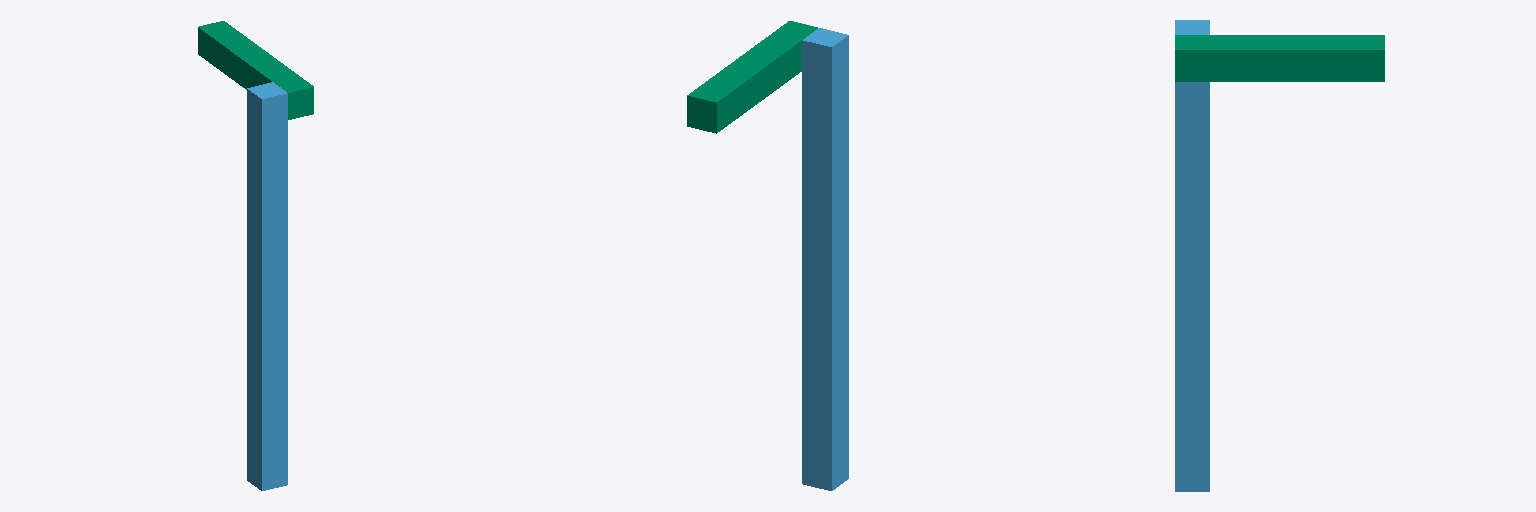
robot.urdf — single_pendulum:
<!-- <?xml version="1.0" ?> -->
<!-- Example modified from rrbot example -->
<robot name="single_pendulum">
  <!-- Use a dummy "base_link" as in REP-120 models -->
  <link name="base_link"/>
  <joint name="fake_base_fixed_joint" type="fixed">
    <parent link="base_link"/>
    <child link="base"/>
  </joint>
  
  <!-- Base Link -->
  <link name="base">
    <collision>
      <origin rpy="0 0 0" xyz="0 0 1.0"/>
      <geometry>
        <box size="0.15 0.15 2.15"/>
      </geometry>
    </collision>
    <visual>
      <origin rpy="0 0 0" xyz="0 0 1.0"/>
      <geometry>
        <box size="0.15 0.15 2.15"/>
      </geometry>
      <material name="orange"/>
    </visual>
    <inertial>
      <mass value="100"/>
      <origin rpy="0 0 0" xyz="0 0 0.0"/>
      <inertia ixx="1.0" ixy="0.0" ixz="0.0" iyy="1.0" iyz="0.0" izz="1.0"/>
    </inertial>
  </link>

  <joint name="upper_joint" type="revolute">
    <parent link="base_link" />
    <child link="upper_link"/>
    <origin rpy="-1.5708 0 0" xyz="0.15 0 2"/>
    <axis xyz="1 0 0"/>
    <limit effort="100" velocity="100.0" lower="-5" upper="5" />
  </joint>


  <!-- Upper link -->
  <link name="upper_link">
    <collision>
      <origin rpy="0 0 0" xyz="0 0 0.40"/>
      <geometry>
        <box size="0.15 0.15 0.90"/>
      </geometry>
    </collision>
    <visual>
      <origin rpy="0 0 0" xyz="0 0 0.375"/>
      <geometry>
        <box size="0.15 0.15 0.90"/>
      </geometry>
    </visual>    
    <inertial>
      <origin rpy="0 0 0" xyz="0 0 0.40"/>
      <mass value="1"/>
      <inertia ixx="1.0" ixy="0.0" ixz="0.0" iyy="1.0" iyz="0.0" izz="1.0"/>
    </inertial>
  </link>
  
  
  <gazebo>
    <!-- Create an instance the gazebo_controlboard YARP device called "controlboard_plugin_device"-->
    <plugin name="controlboard" filename="libgazebo_yarp_controlboard.so">
        <yarpConfigurationFile>model://single_pendulum/conf/gazebo_controlboard.ini</yarpConfigurationFile>
        <initialConfiguration>0.0 0.0</initialConfiguration>
    </plugin>
    <!-- Launch the other YARP devices, in this case a controlBoard_nws_yarp to expose the controlboard functionalities via YARP ports -->
    <plugin name="robotinterface" filename="libgazebo_yarp_robotinterface.so">
        <yarpRobotInterfaceConfigurationFile>model://single_pendulum/conf/single_pendulum_nws.xml</yarpRobotInterfaceConfigurationFile>
    </plugin>
  </gazebo>

</robot>

--- What the picture shows (computed from the rendered views, not written in the file) ---
3 views of the same robot in one strip: view 1: azimuth 30°, elevation 25°; view 2: azimuth 150°, elevation 25°; view 3: azimuth 270°, elevation 25° (orthographic).
Model single_pendulum with 3 links and 2 joints (1 revolute, 1 fixed), rooted at base_link, posed all joints at 0.
Links seen in each view (by area): view 1: base, upper_link; view 2: base, upper_link; view 3: base, upper_link.
Boxes of the visible links, <box> form: base: <box>247,82,287,490</box>; upper_link: <box>198,21,313,119</box>; base: <box>802,28,848,490</box>; upper_link: <box>687,21,817,133</box>; base: <box>1175,20,1209,491</box>; upper_link: <box>1175,35,1384,81</box>.
Size in the robot's own frame: 0.3 by 0.9 by 2.15 metres.
Geometry: primitives only (box / cylinder / sphere), no mesh files.
